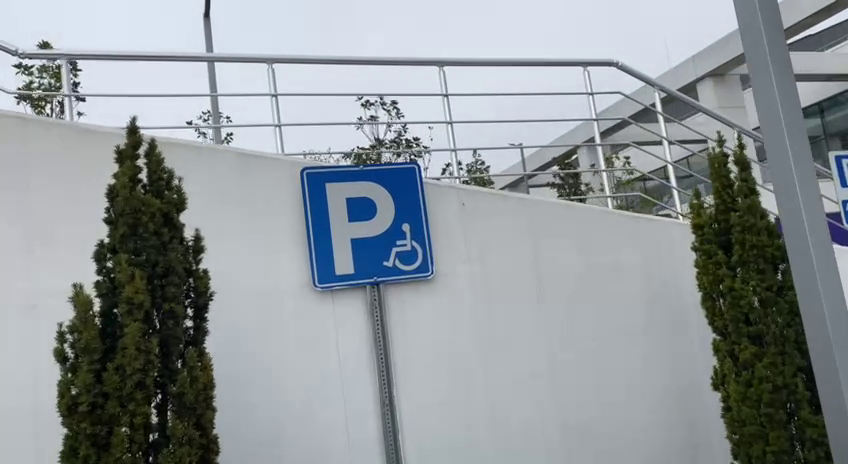parking: (297, 161, 434, 292)
